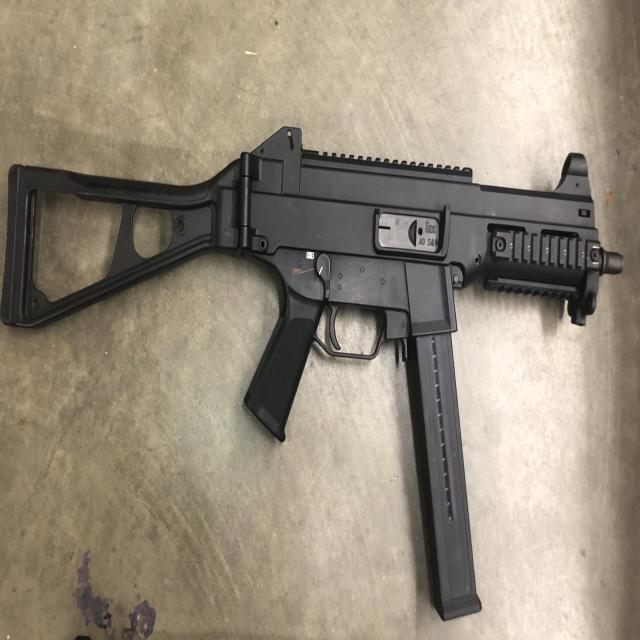SMG: (0, 128, 625, 623)
